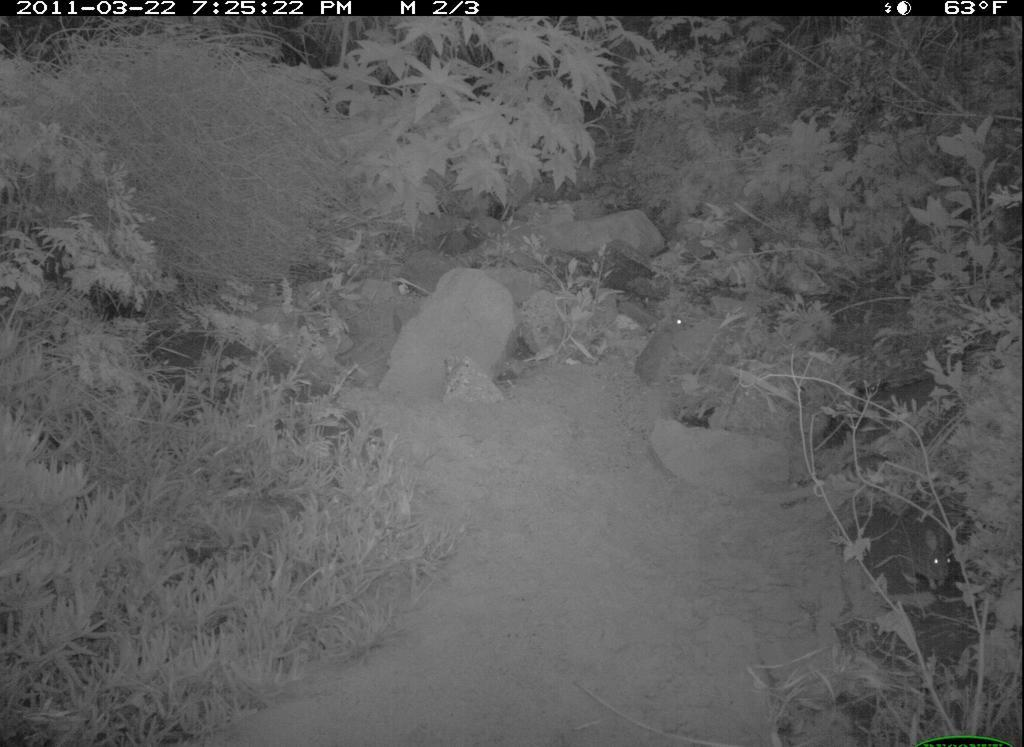rabbit: (628, 297, 697, 396), (890, 523, 962, 607)
